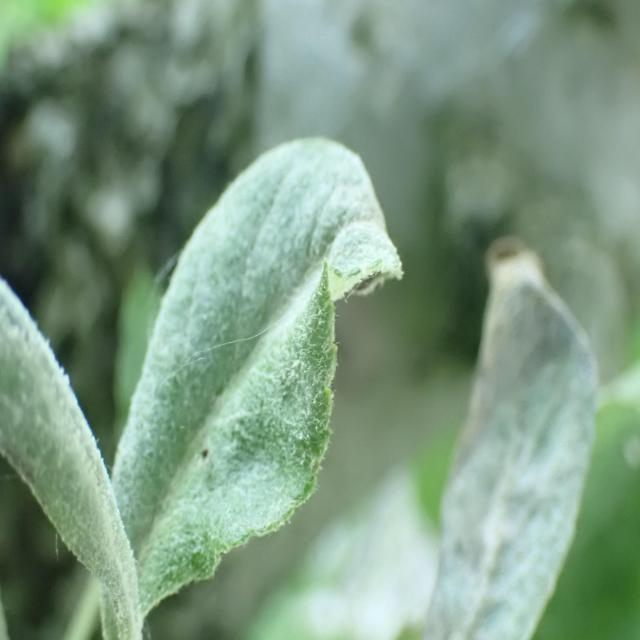Powdery_mildew: (106, 115, 398, 619), (369, 230, 590, 640), (0, 272, 164, 632)
